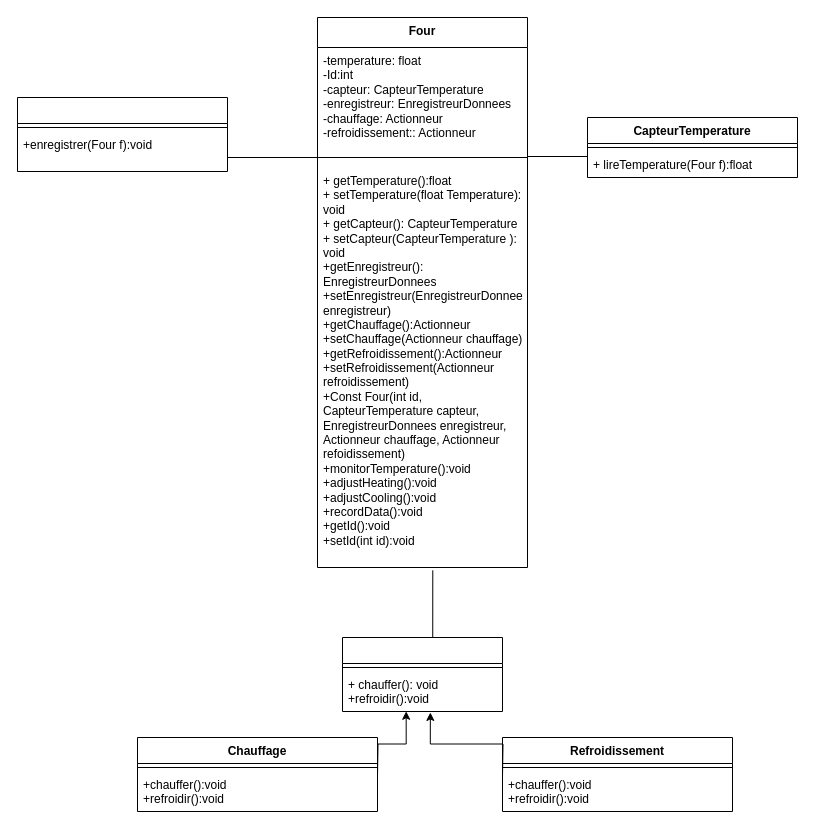
This 815x832 diagram has some shape labels left out. The shapes that lost their labels are listed below. From the top down, each one's box as (x1, y1, x2, y2) in pixels, then its label:
(16, 96, 228, 172): EnregistreurDonnees
(342, 636, 502, 712): Actionneur
